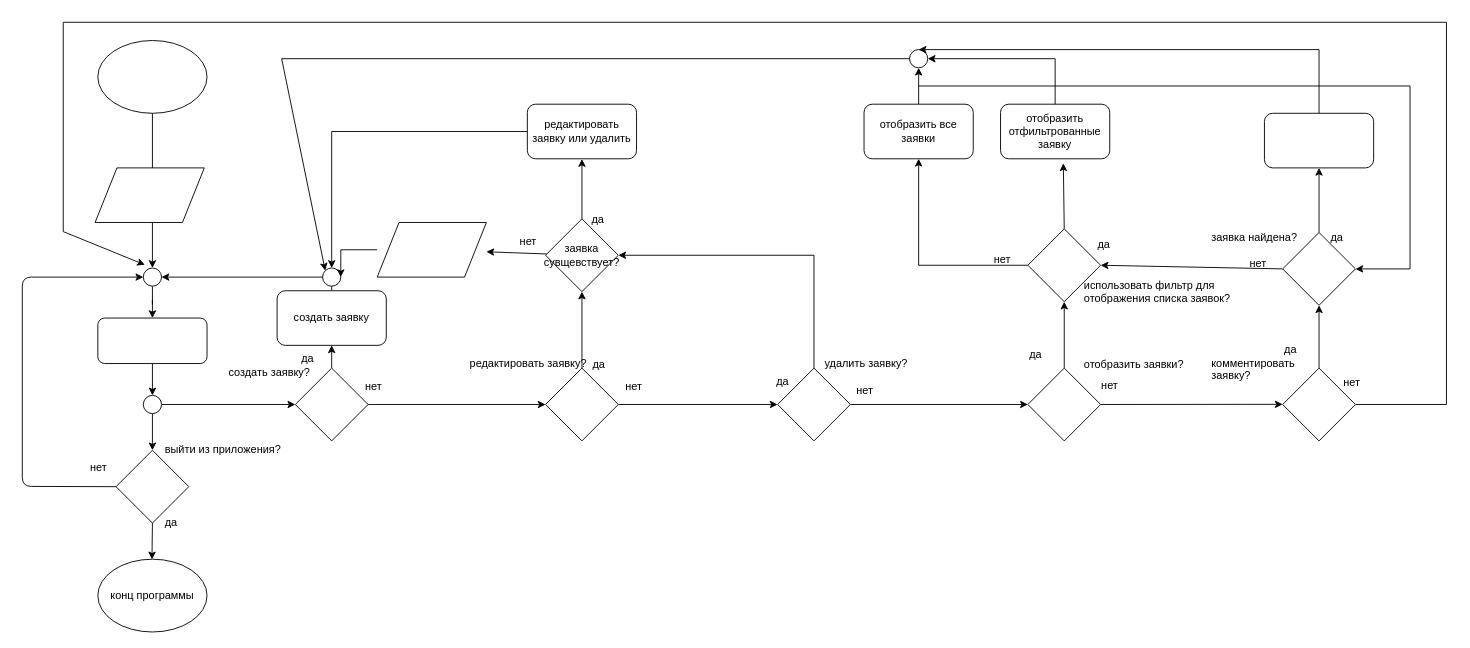
Image size: 1470x648. Some labels were removed from this diagram. The shapes that lost their labels are listed below. From the top down, each one's centre as x and y in pixels, then its label:
At pixel 152 76: "начало программы".
At pixel 1319 140: "комментировать заявку".
At pixel 149 194: "приветствие пользователя, описание программы".
At pixel 431 249: "вывести сообщение о ошибке".
At pixel 152 340: "Список действий".
